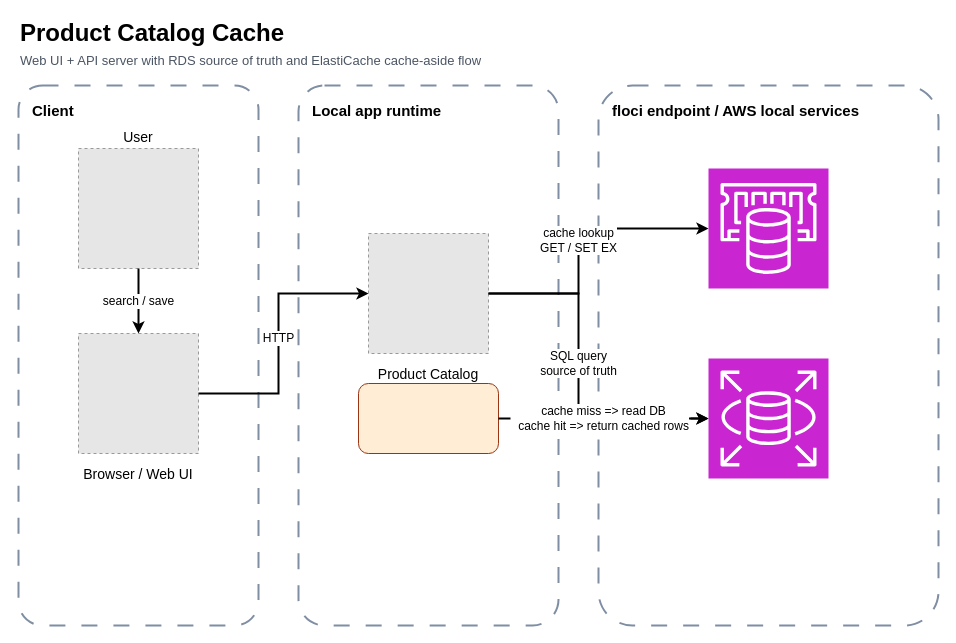
Some shapes in this 956 by 643 pixel diagram are drawn without their labels. Grey dashed boxes stand in for pictures. The centre of each missing label's shape, as x and y in pixels:
Amazon ElastiCache Redis proxy: [768,228]
Amazon RDS PostgreSQL: [768,418]
cache-aside hit / miss: [428,418]
